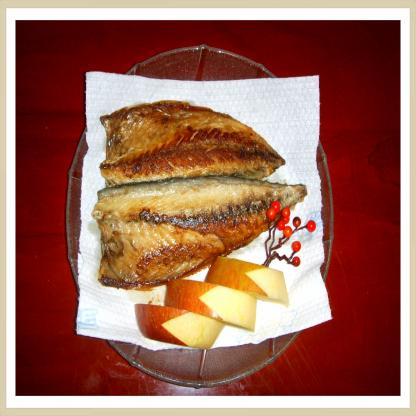Peixe: (99, 101, 303, 288)
